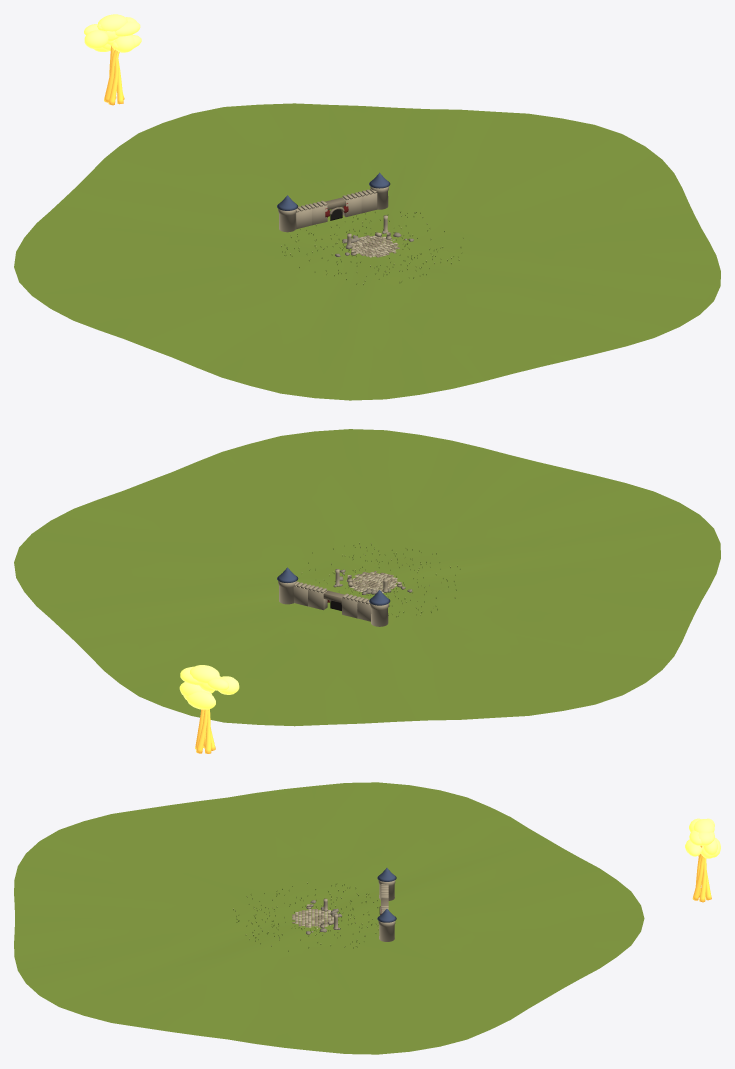
File: arena.glb
The picture shows the model from 3 angles, top to bottom: view 1: azimuth 30°, elevation 25°; view 2: azimuth 150°, elevation 25°; view 3: azimuth 270°, elevation 25°; orthographic projection. The views are drawn at different scales.
Visible parts, largest first — view 1: Set_Grass, Set_Wall, Erdtree.001, Erdtree; view 2: Set_Grass, Set_Wall, Erdtree.001, Erdtree; view 3: Set_Grass, Erdtree.001, Set_Wall, Erdtree.
Part boxes in pixels (bbox=[...]): Set_Grass: bbox=[14, 103, 720, 400]; Set_Wall: bbox=[278, 186, 391, 255]; Erdtree.001: bbox=[84, 14, 141, 52]; Erdtree: bbox=[104, 45, 124, 105]; Set_Grass: bbox=[14, 429, 720, 726]; Set_Wall: bbox=[278, 569, 402, 626]; Erdtree.001: bbox=[179, 665, 239, 709]; Erdtree: bbox=[195, 709, 215, 753]; Set_Grass: bbox=[14, 782, 644, 1054]; Erdtree.001: bbox=[685, 818, 720, 858]; Set_Wall: bbox=[306, 880, 395, 941]; Erdtree: bbox=[692, 845, 711, 902].
Bounding box in the file's own units: 123 × 16.48 × 135.
